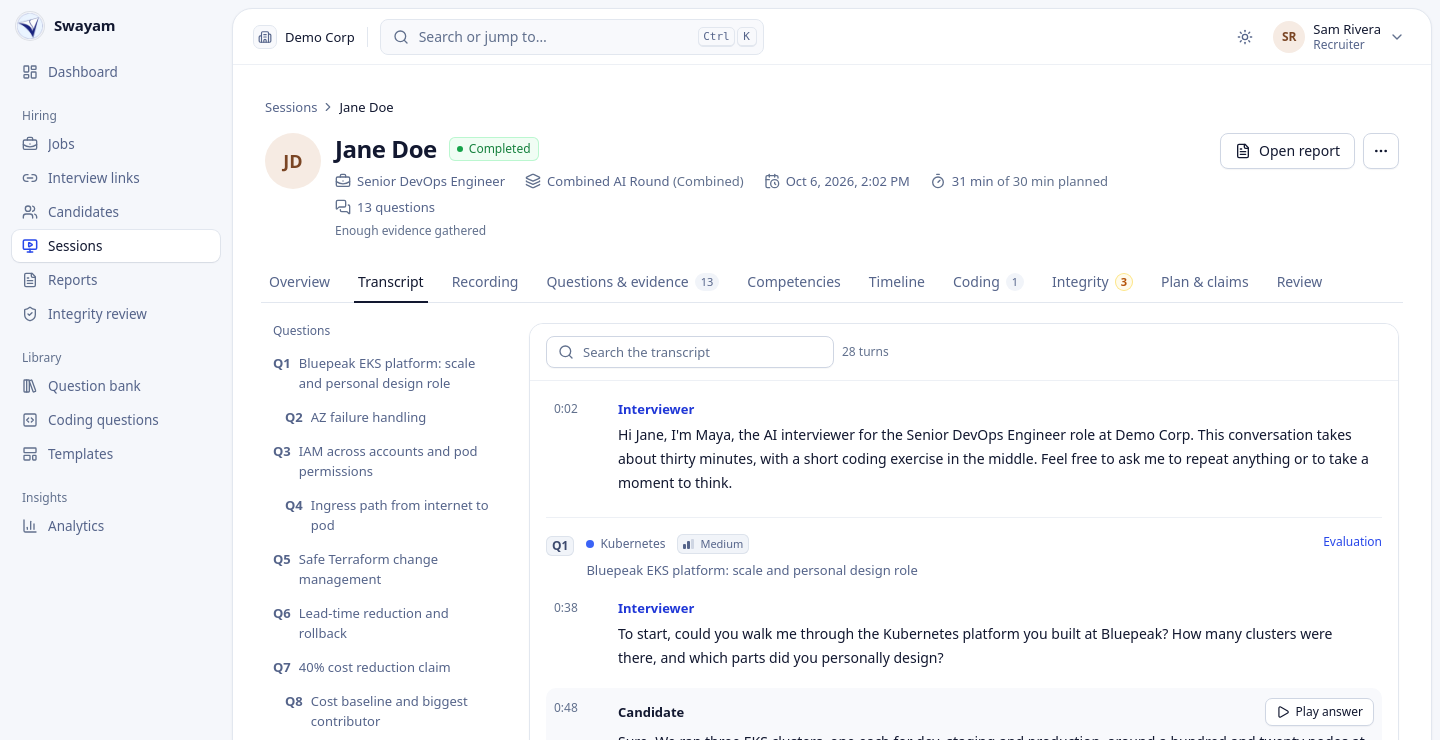
it: session detail › renders a speaker-labelled transcript with question markers and search
Type "Karpenter" into the search field labelled "Search the transcript" at (690, 352), box [546, 336, 834, 368]
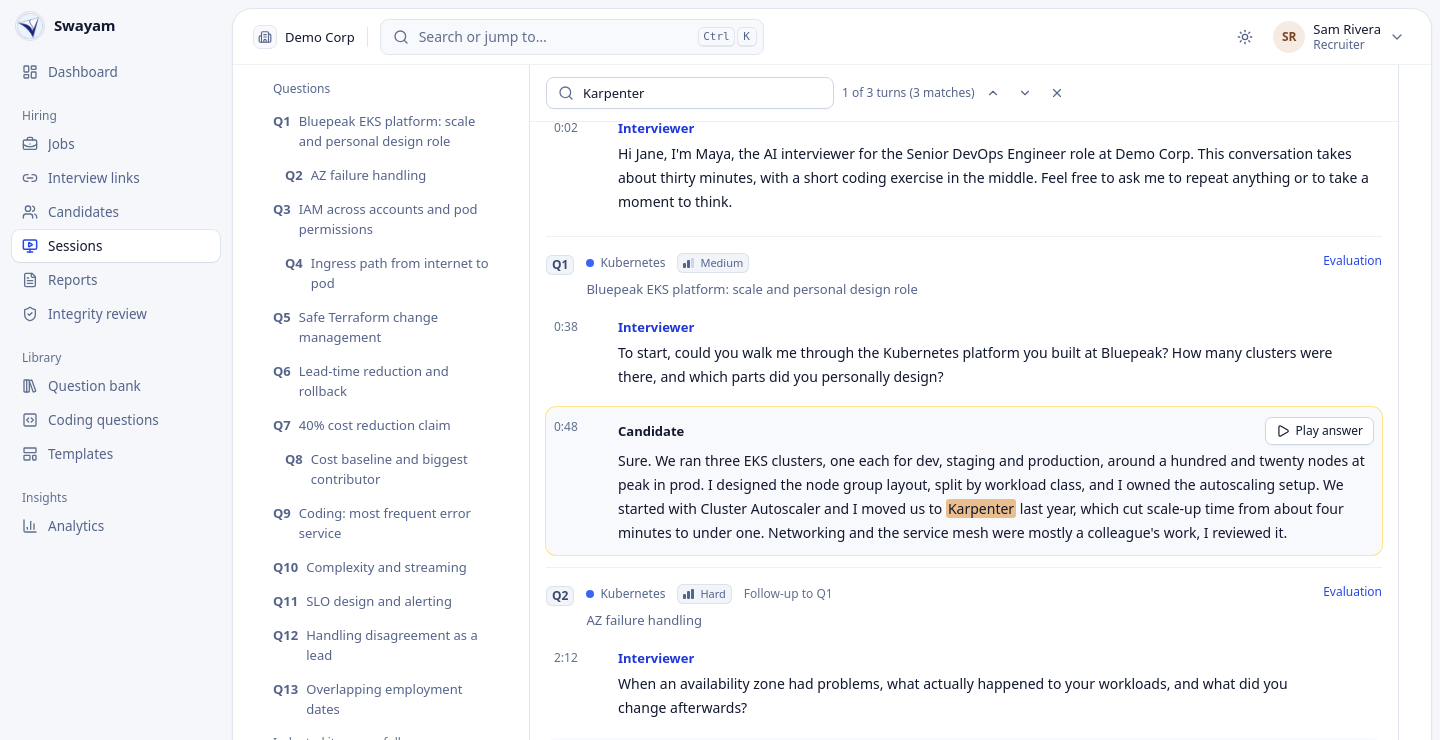
Expected: the text "Karpenter" is shown, [946, 499, 1016, 518]
Now the text "1 of 3 turns (3 matches)" is shown, box [842, 79, 1071, 107]
